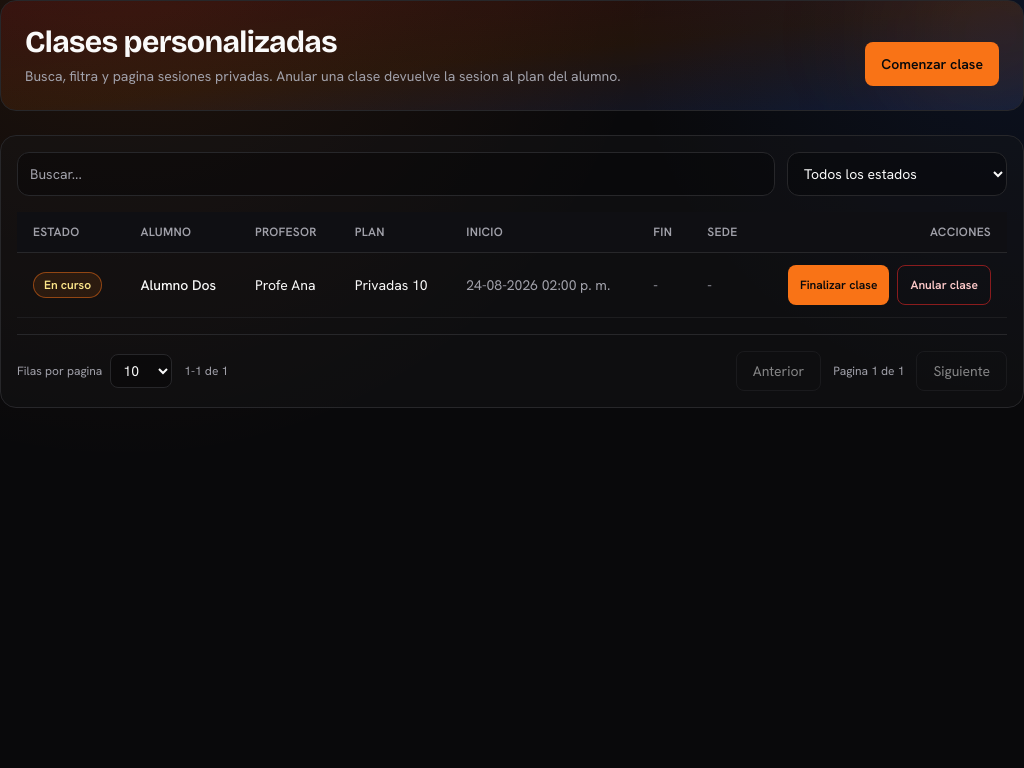
TeacherPersonalizedClassPage › permite anular una clase con motivo y recargar la lista
Click the button "Anular clase" at (944, 285), box [898,265,991,305]
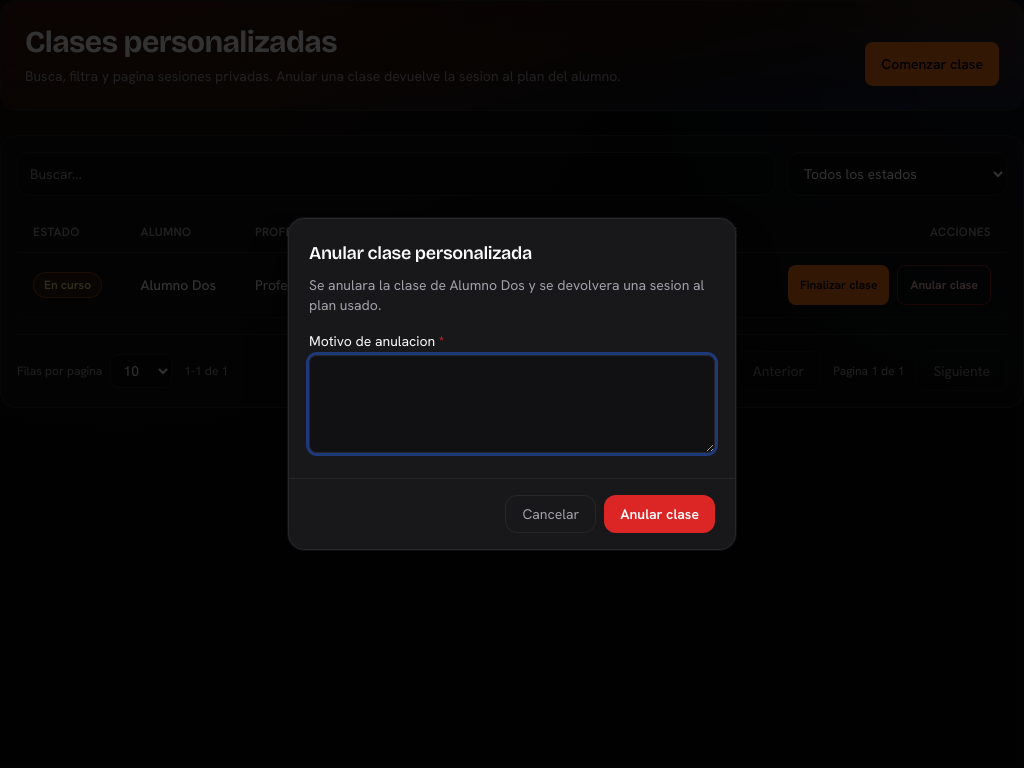
Type "Alumno equivocado" into the text box labelled "Motivo de anulacion *" at (512, 404), box [309,355,715,453]
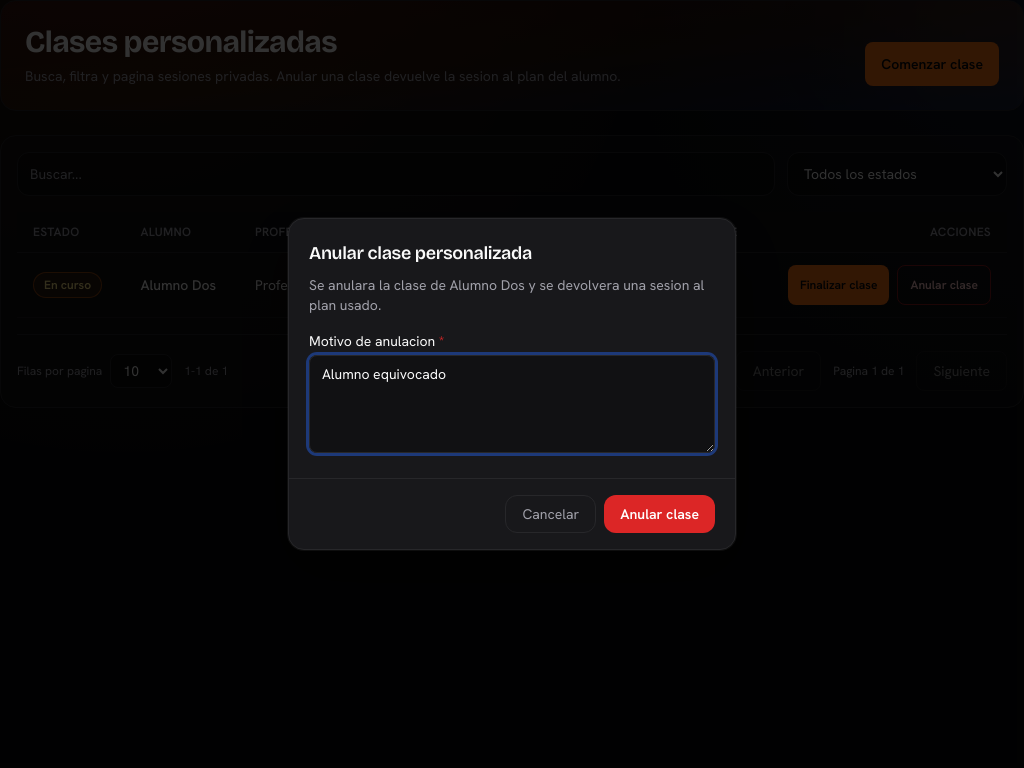
Click the button "Anular clase" at (660, 514), box [604,495,715,533]
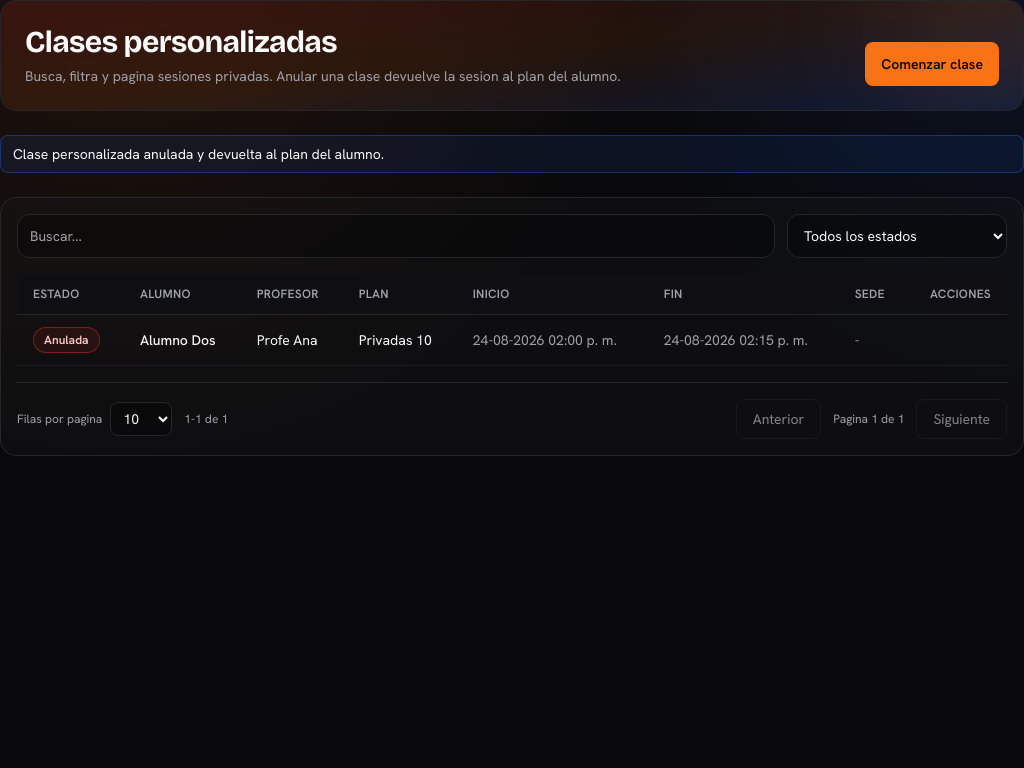
Now the text "Clase personalizada anulada y devuelta al plan del alumno." is shown, box [0,135,1023,173]
Now the text "Anulada" is shown, box [33,327,100,353]
